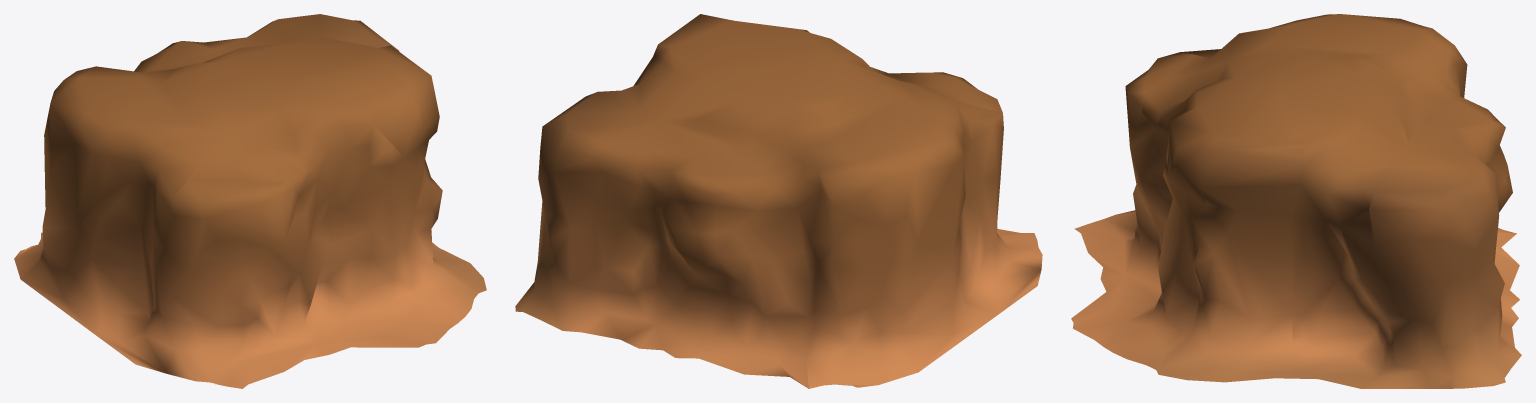
The model's file is Mountain 2.glb.
The picture shows the model from 3 angles, left to right: view 1: azimuth 30°, elevation 25°; view 2: azimuth 150°, elevation 25°; view 3: azimuth 270°, elevation 25°; orthographic projection. The views are drawn at different scales.
Parts seen in each view (by area): view 1: Mountain2; view 2: Mountain2; view 3: Mountain2.
Boxes of the visible parts, x1,y1,x2,y2 form: Mountain2: [14, 14, 486, 388]; Mountain2: [515, 14, 1042, 388]; Mountain2: [1071, 14, 1521, 388].
Size of what is drawn, in the model's own units: 13.79 by 7.26 by 13.96.
1 material, 1 textured.
